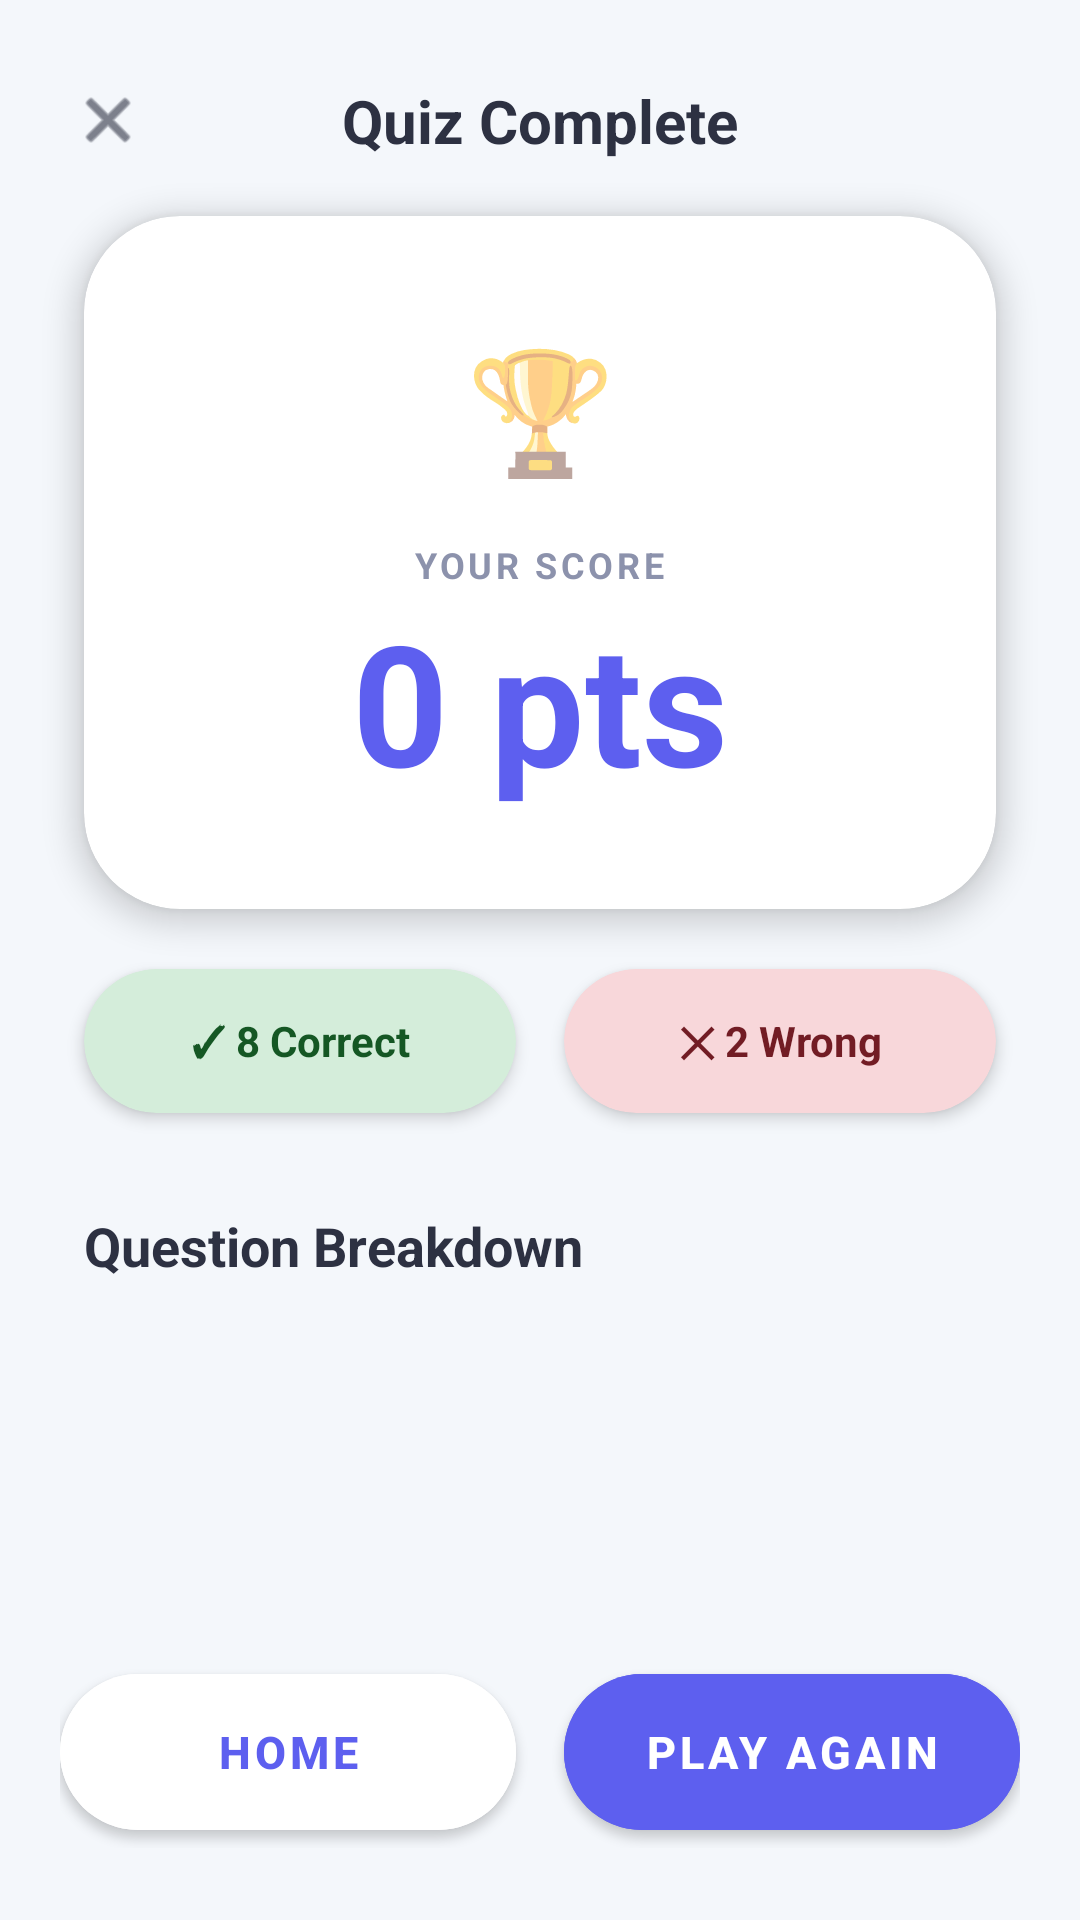

Locate icon controls on the screen. Image size 1080 x 1920, boxes as (x1, y1, x2, y2).
close clear cancel: (86, 98, 130, 142)
